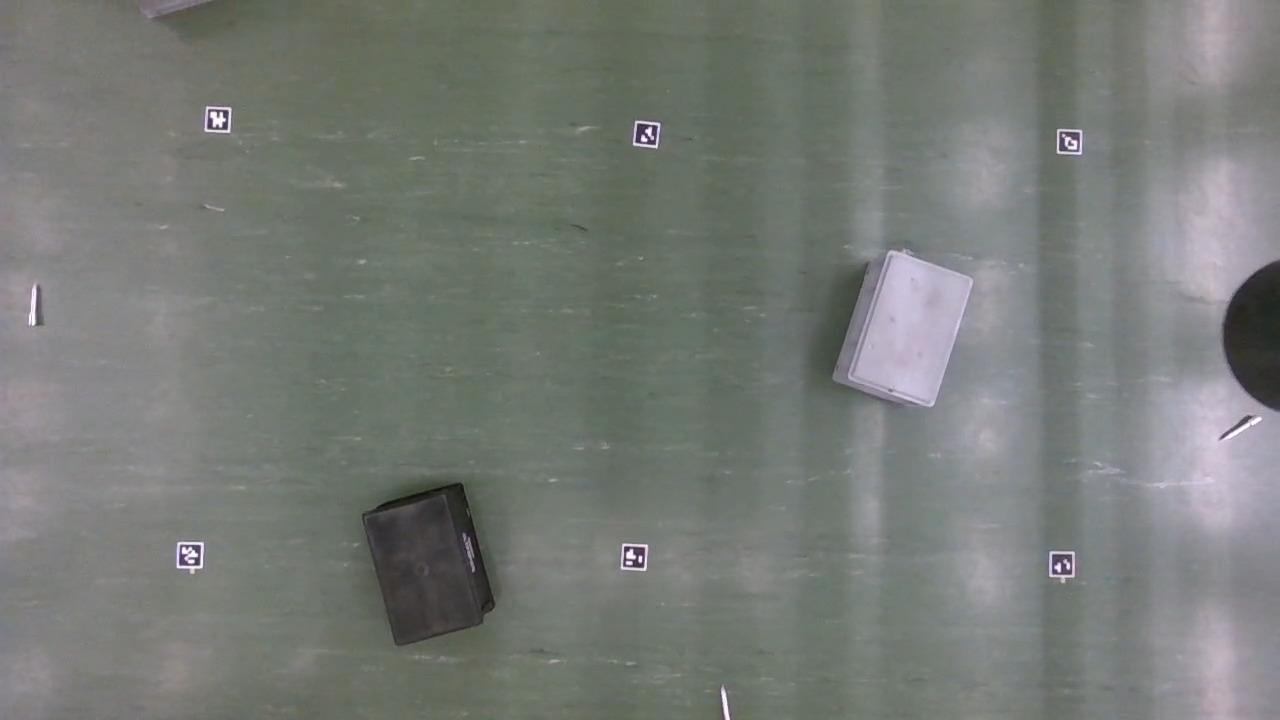probes: (1221, 416, 1258, 443), (29, 286, 39, 328), (721, 686, 731, 720)
rako: (831, 250, 972, 410), (363, 486, 494, 649)
